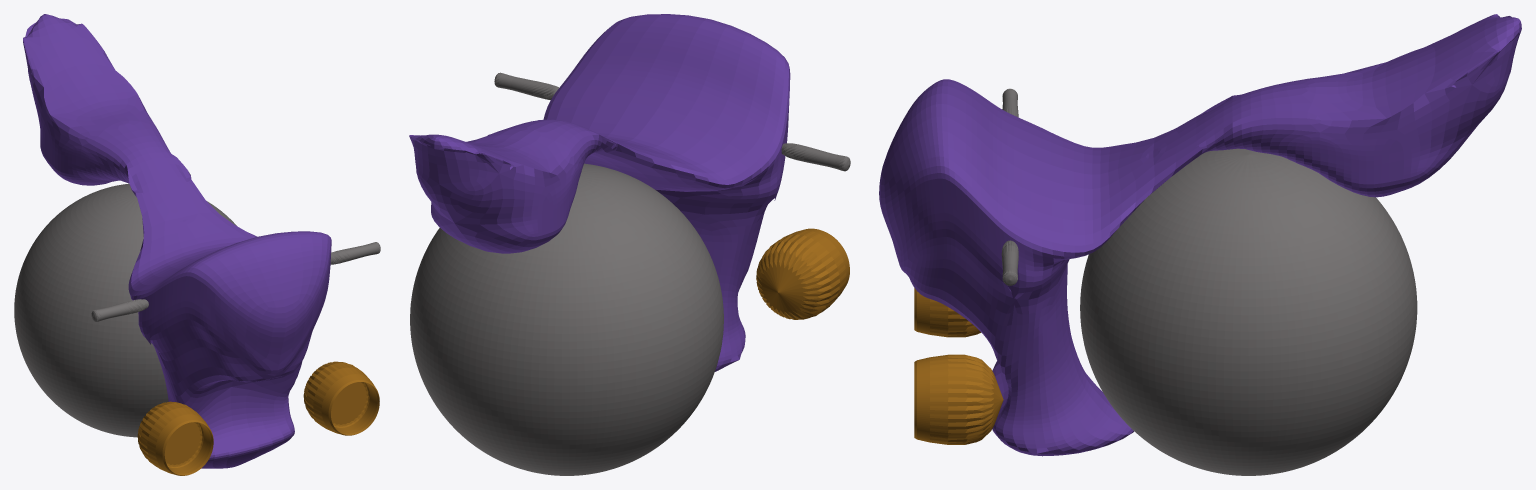
Rendered from Moto.fbx.
3 views of the same model, side by side, from view 1: azimuth 30°, elevation 25°; view 2: azimuth 150°, elevation 25°; view 3: azimuth 270°, elevation 25° (orthographic). The views are drawn at different scales.
Visible parts, largest first — view 1: Plane, Sphere; view 2: Sphere, Plane; view 3: Plane, Sphere.
Boxes of the visible parts, x1=… form: Plane: x1=23, y1=14, x2=380, y2=475; Sphere: x1=14, y1=183, x2=236, y2=437; Sphere: x1=410, y1=163, x2=723, y2=475; Plane: x1=409, y1=14, x2=850, y2=371; Plane: x1=879, y1=14, x2=1521, y2=456; Sphere: x1=1080, y1=148, x2=1417, y2=475.
Bounding box in the file's own units: 195 × 218 × 285.
